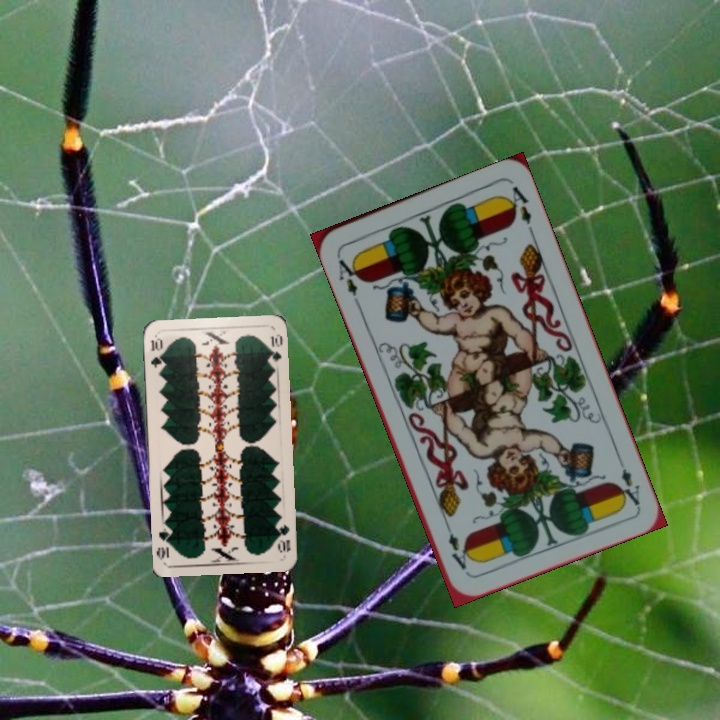EA: (613, 452, 643, 508), (332, 249, 364, 299)
G10: (273, 521, 293, 555), (146, 334, 164, 370)
